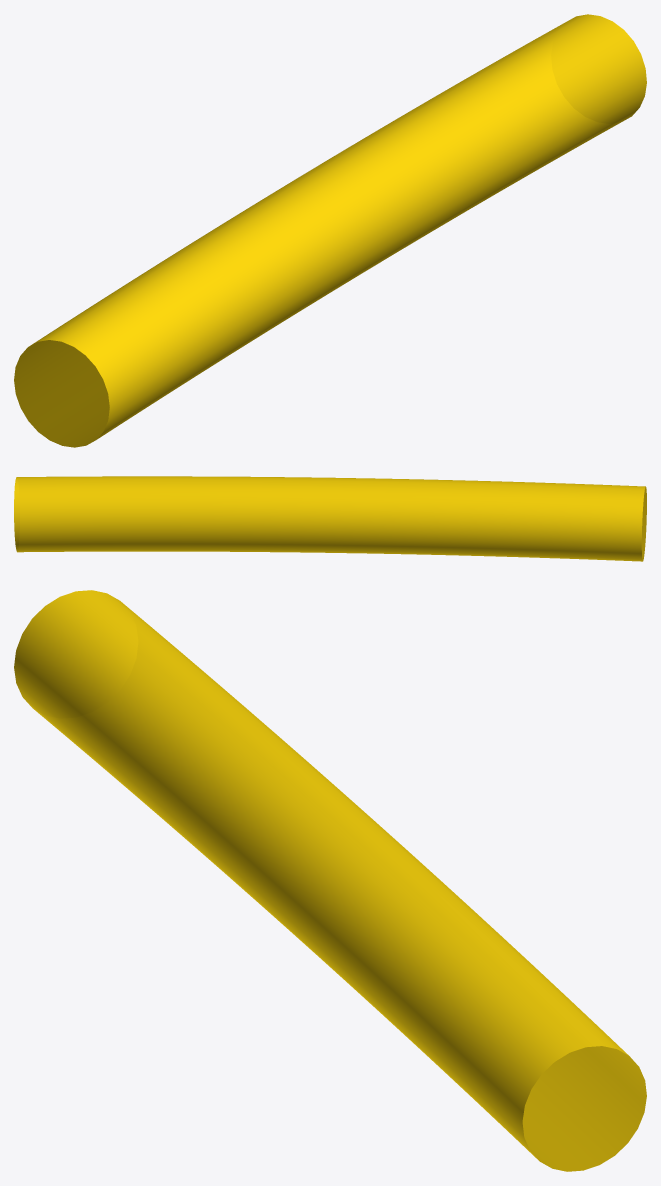
File: Event_420604493_track_14.fbx
3 views of the same model, one above another, from view 1: azimuth 30°, elevation 25°; view 2: azimuth 150°, elevation 25°; view 3: azimuth 270°, elevation 25° (orthographic). The views are drawn at different scales.
Visible parts, largest first — view 1: Model; view 2: Model; view 3: Model.
Part boxes in pixels (<box>): Model: <box>14,14,646,447</box>; Model: <box>14,476,646,561</box>; Model: <box>14,590,646,1171</box>.
Size of the model in its own units: 0.317 by 0.0455 by 0.1827.
